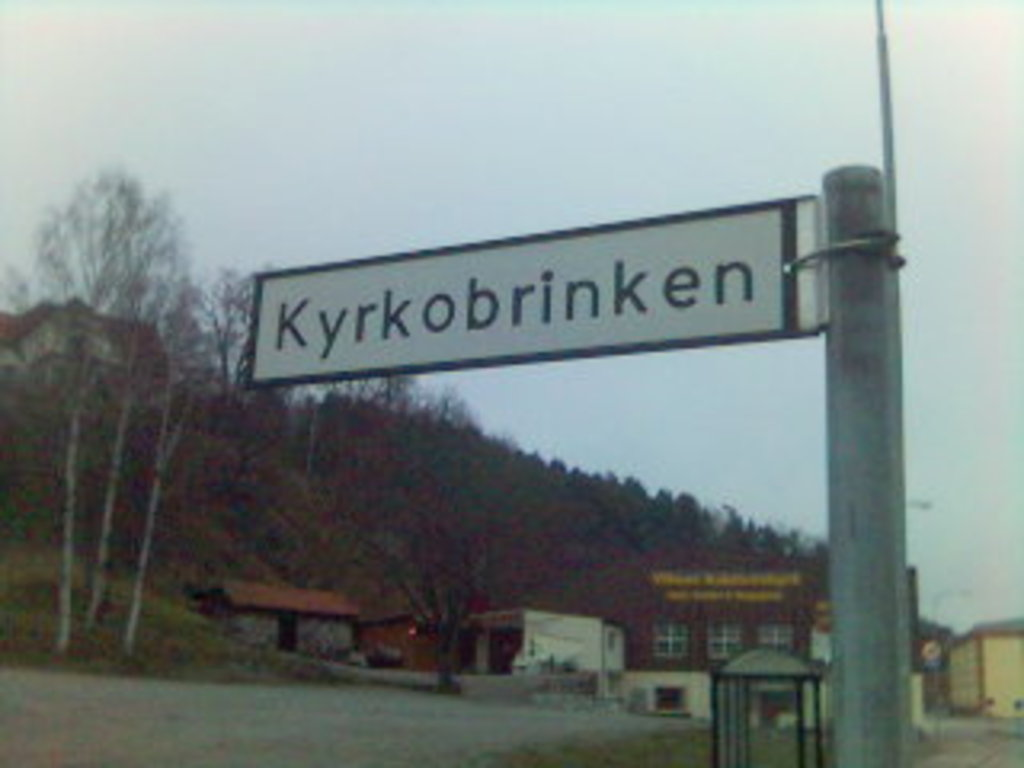Tree: (89, 246, 297, 649), (265, 358, 512, 697), (9, 185, 188, 639), (435, 425, 854, 611)
